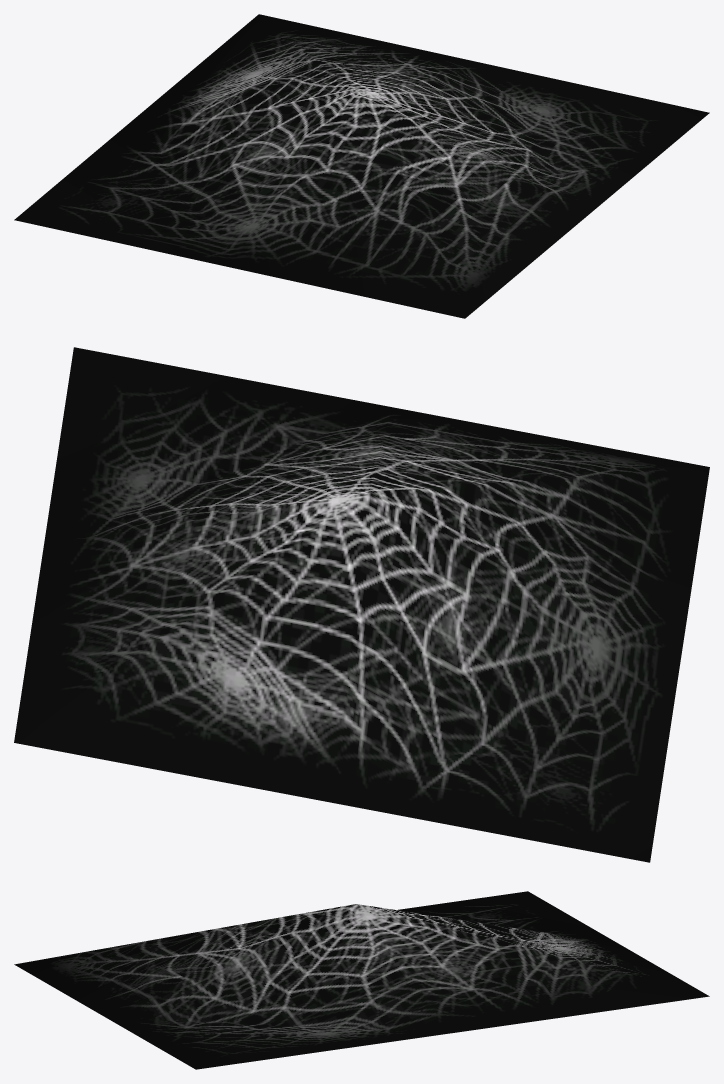
The model's file is MIRKWOOD_PLANE51.fbx.
3 renders of one model, top to bottom at view 1: azimuth 30°, elevation 25°; view 2: azimuth 150°, elevation 25°; view 3: azimuth 270°, elevation 25°, orthographic. The views are drawn at different scales.
Visible parts, largest first — view 1: MIRKWOOD_PLANE51; view 2: MIRKWOOD_PLANE51; view 3: MIRKWOOD_PLANE51.
Boxes of the visible parts, <box> form: MIRKWOOD_PLANE51: <box>14,14,709,318</box>; MIRKWOOD_PLANE51: <box>14,347,709,862</box>; MIRKWOOD_PLANE51: <box>14,891,709,1069</box>.
Size of the model in its own units: 288029 by 60388 by 308145.
1 material, 1 textured.
